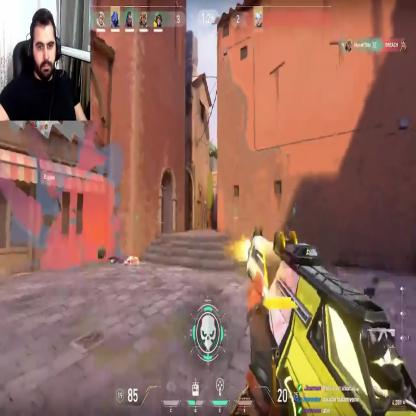enemy: (201, 196, 208, 218)
enemy_head: (204, 198, 206, 205)
